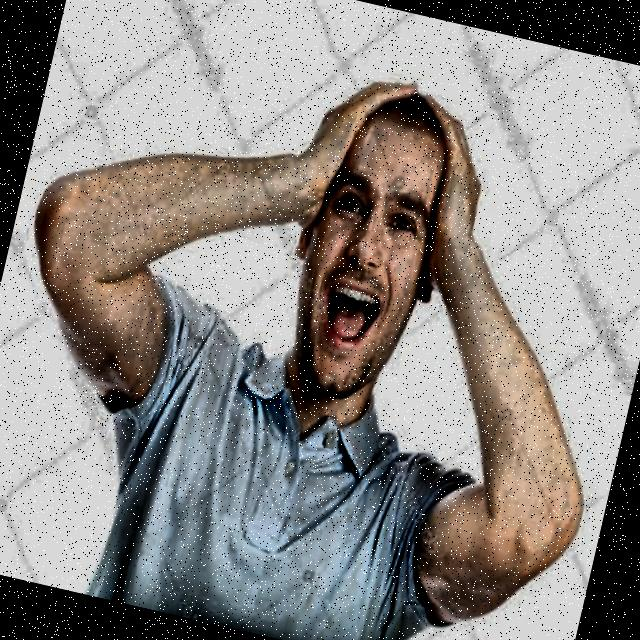surprised: (243, 85, 498, 429)
